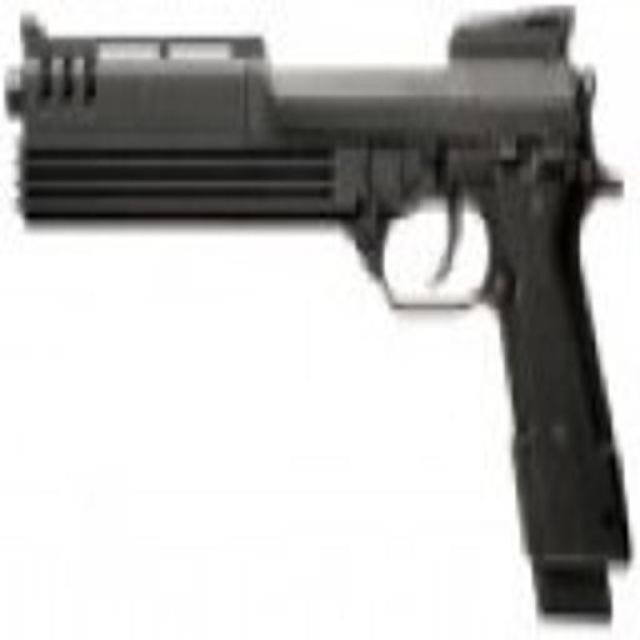pistol: (7, 5, 635, 575)
